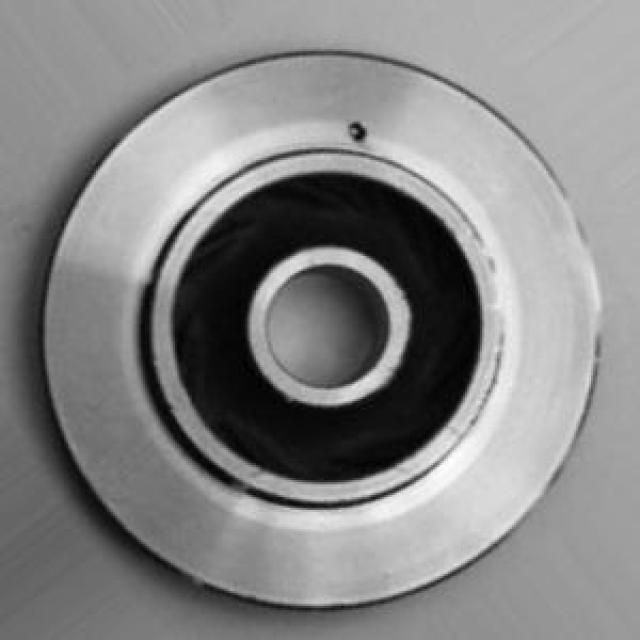Defect: (346, 117, 368, 147)
